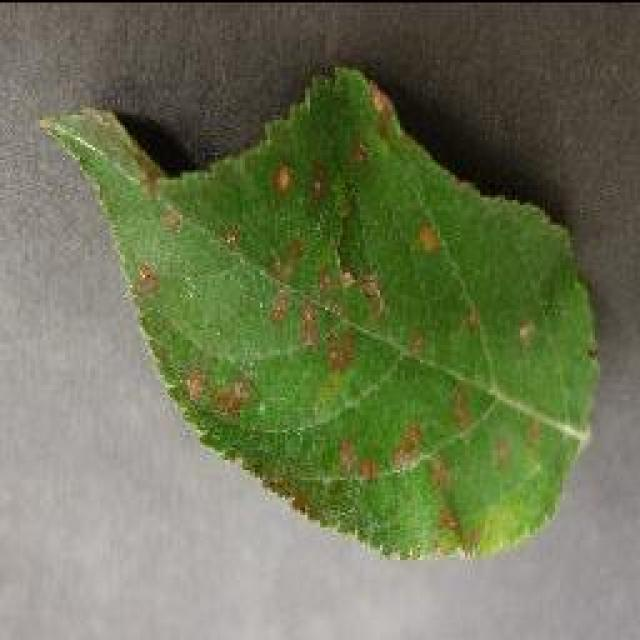apple healthy: (38, 60, 602, 562)
